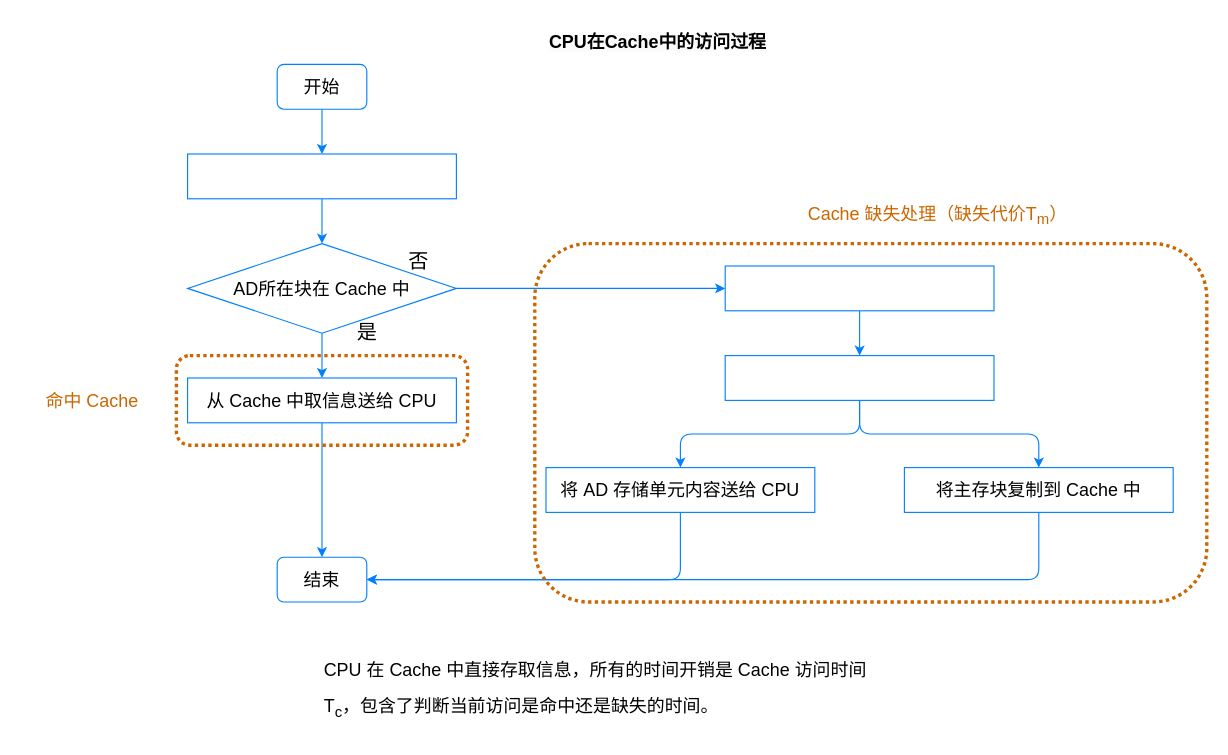
Some shapes in this 1228 by 755 pixel diagram are drawn without their labels. Each missing label, with the centre of its shape:
"CPU给出主存地址AD" belongs at [321,176].
"从主存取出 AD 单元所在块" belongs at [859,288].
"在 Cache 中找到对应的空闲行" belongs at [859,377].
